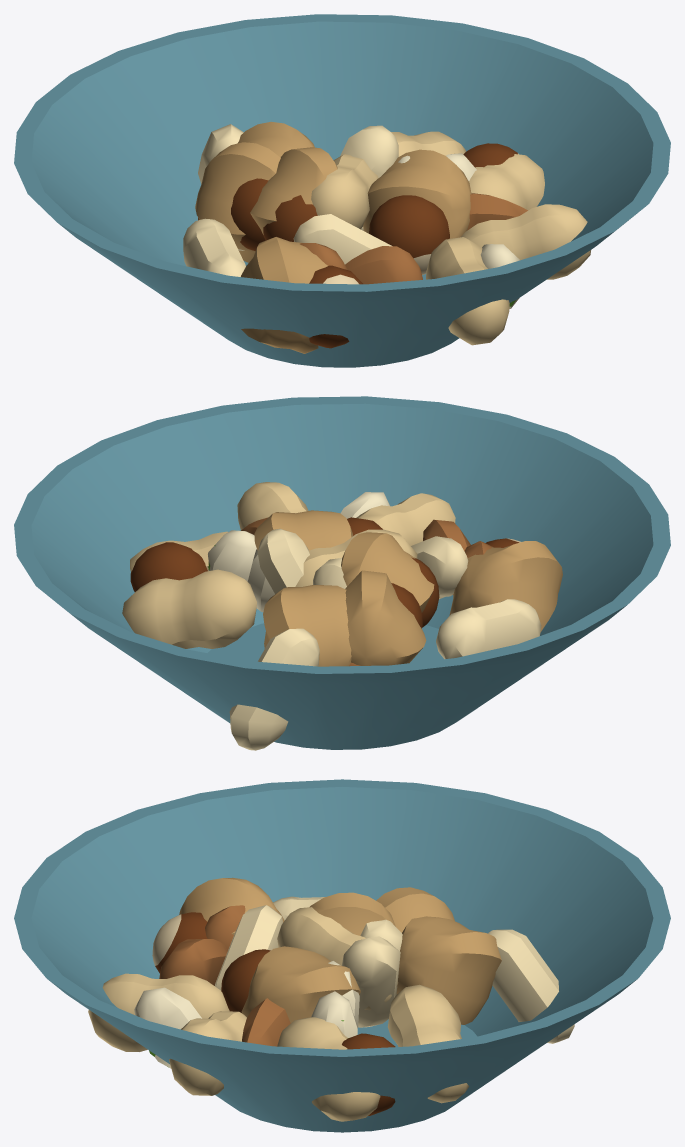
The model's file is Nuts.fbx.
The picture shows the model from 3 angles, top to bottom: view 1: azimuth 30°, elevation 25°; view 2: azimuth 150°, elevation 25°; view 3: azimuth 270°, elevation 25°; orthographic projection.
Visible parts, largest first — view 1: Nuts; view 2: Nuts; view 3: Nuts.
Boxes of the visible parts, <box> form: Nuts: <box>14,14,670,367</box>; Nuts: <box>14,396,670,750</box>; Nuts: <box>14,779,670,1132</box>.
Size of the model in its own units: 0.195 by 0.0545 by 0.195.
